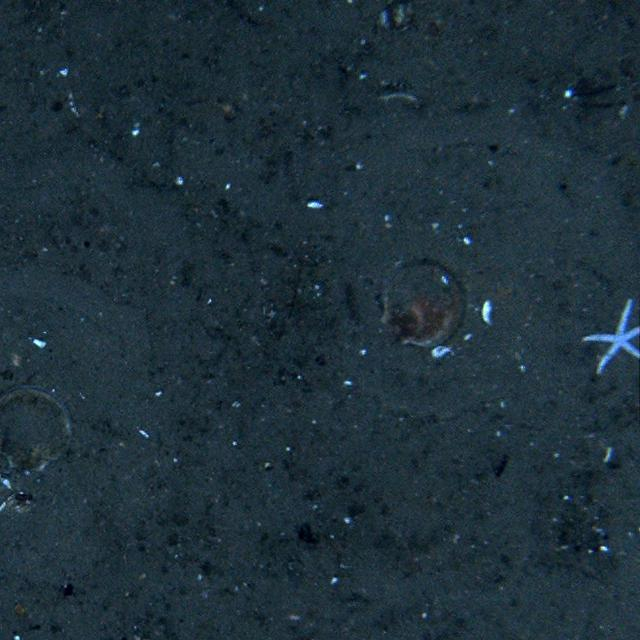scallop: (378, 255, 469, 351)
